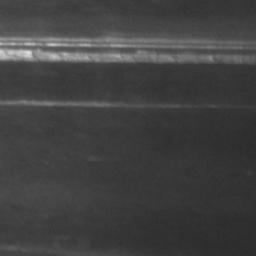Bright scratch: (0, 36, 256, 65), (0, 101, 128, 108)
